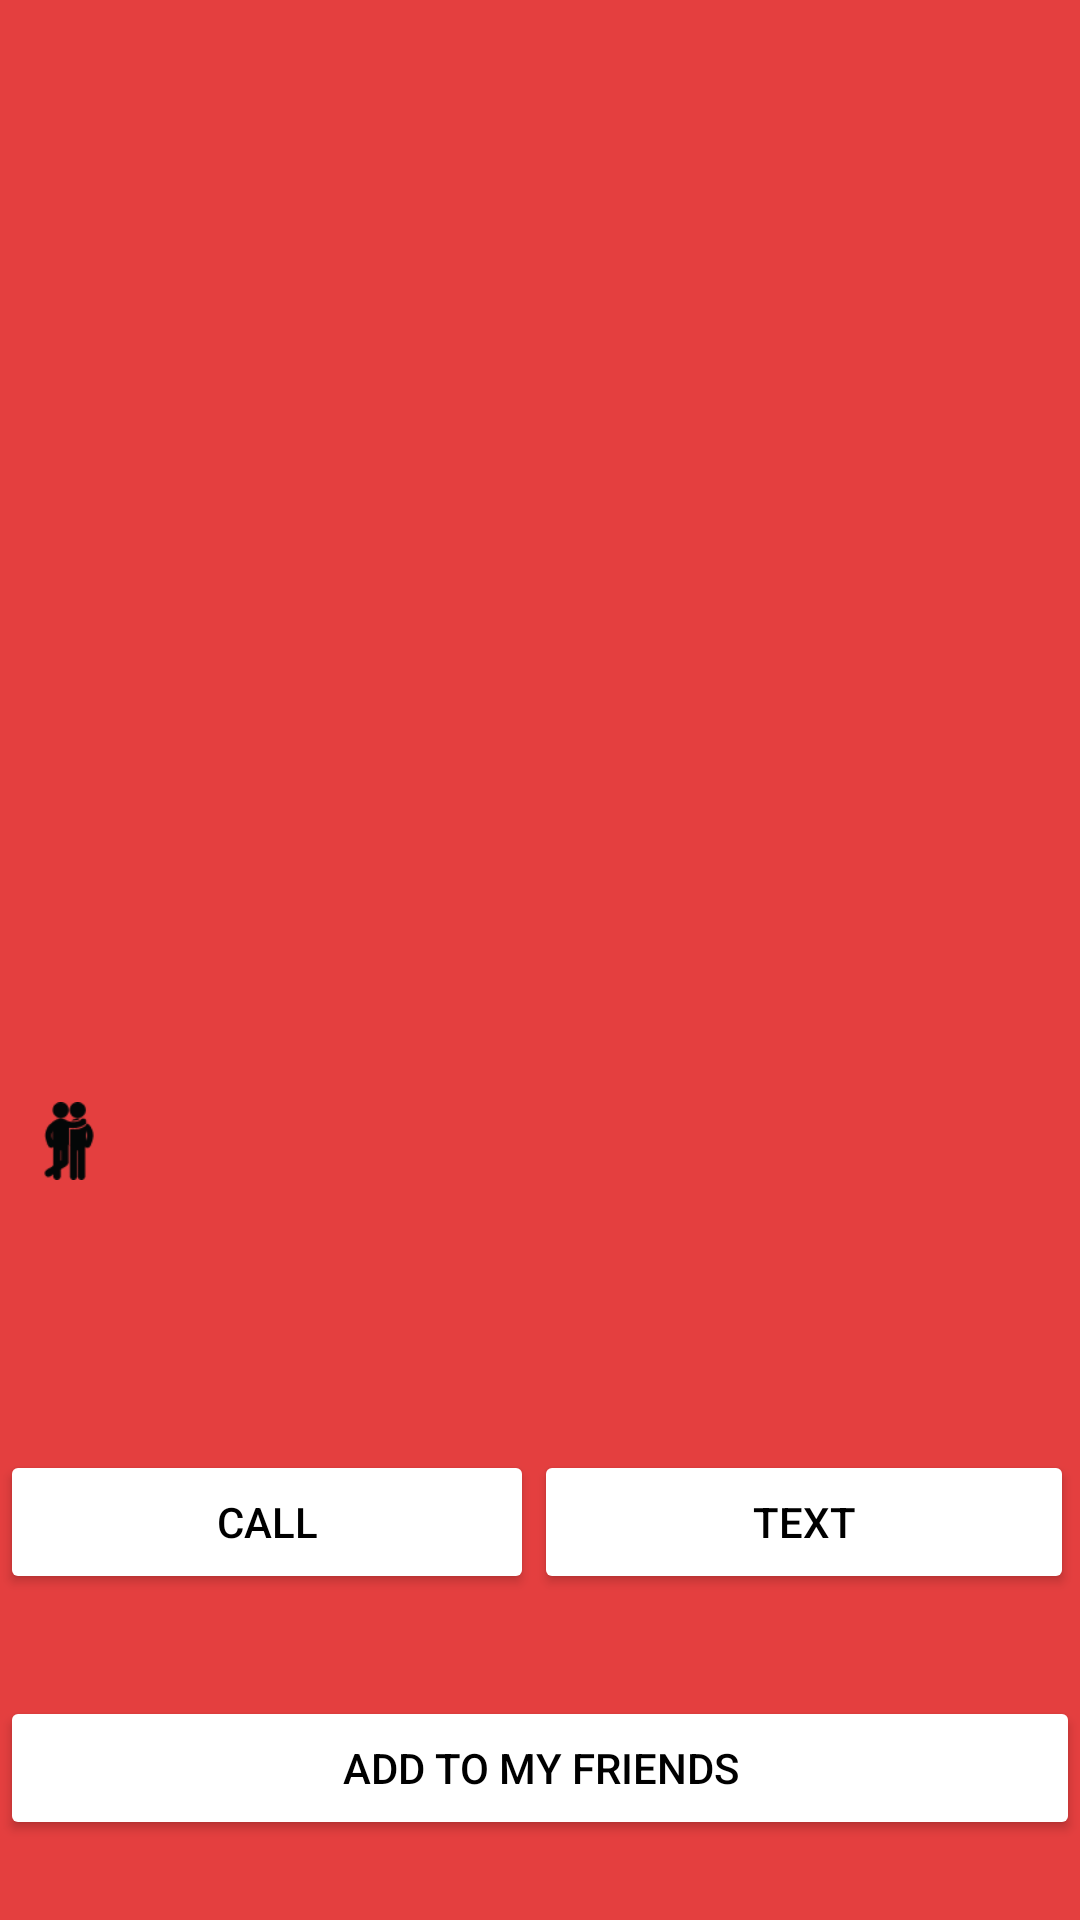

Icon click points for this 1080 × 1920 phone screenshot, format (x,y):
friend: (69,1141)
